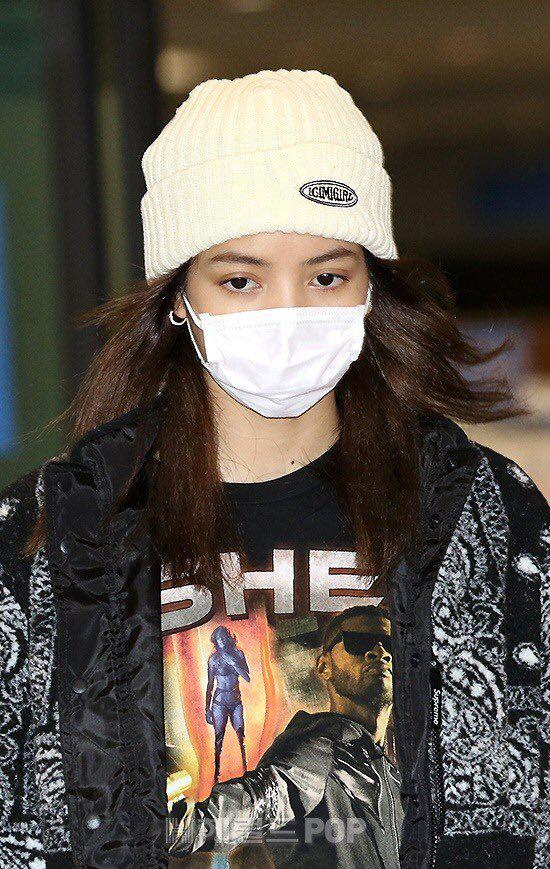OK: (192, 232, 368, 417)
